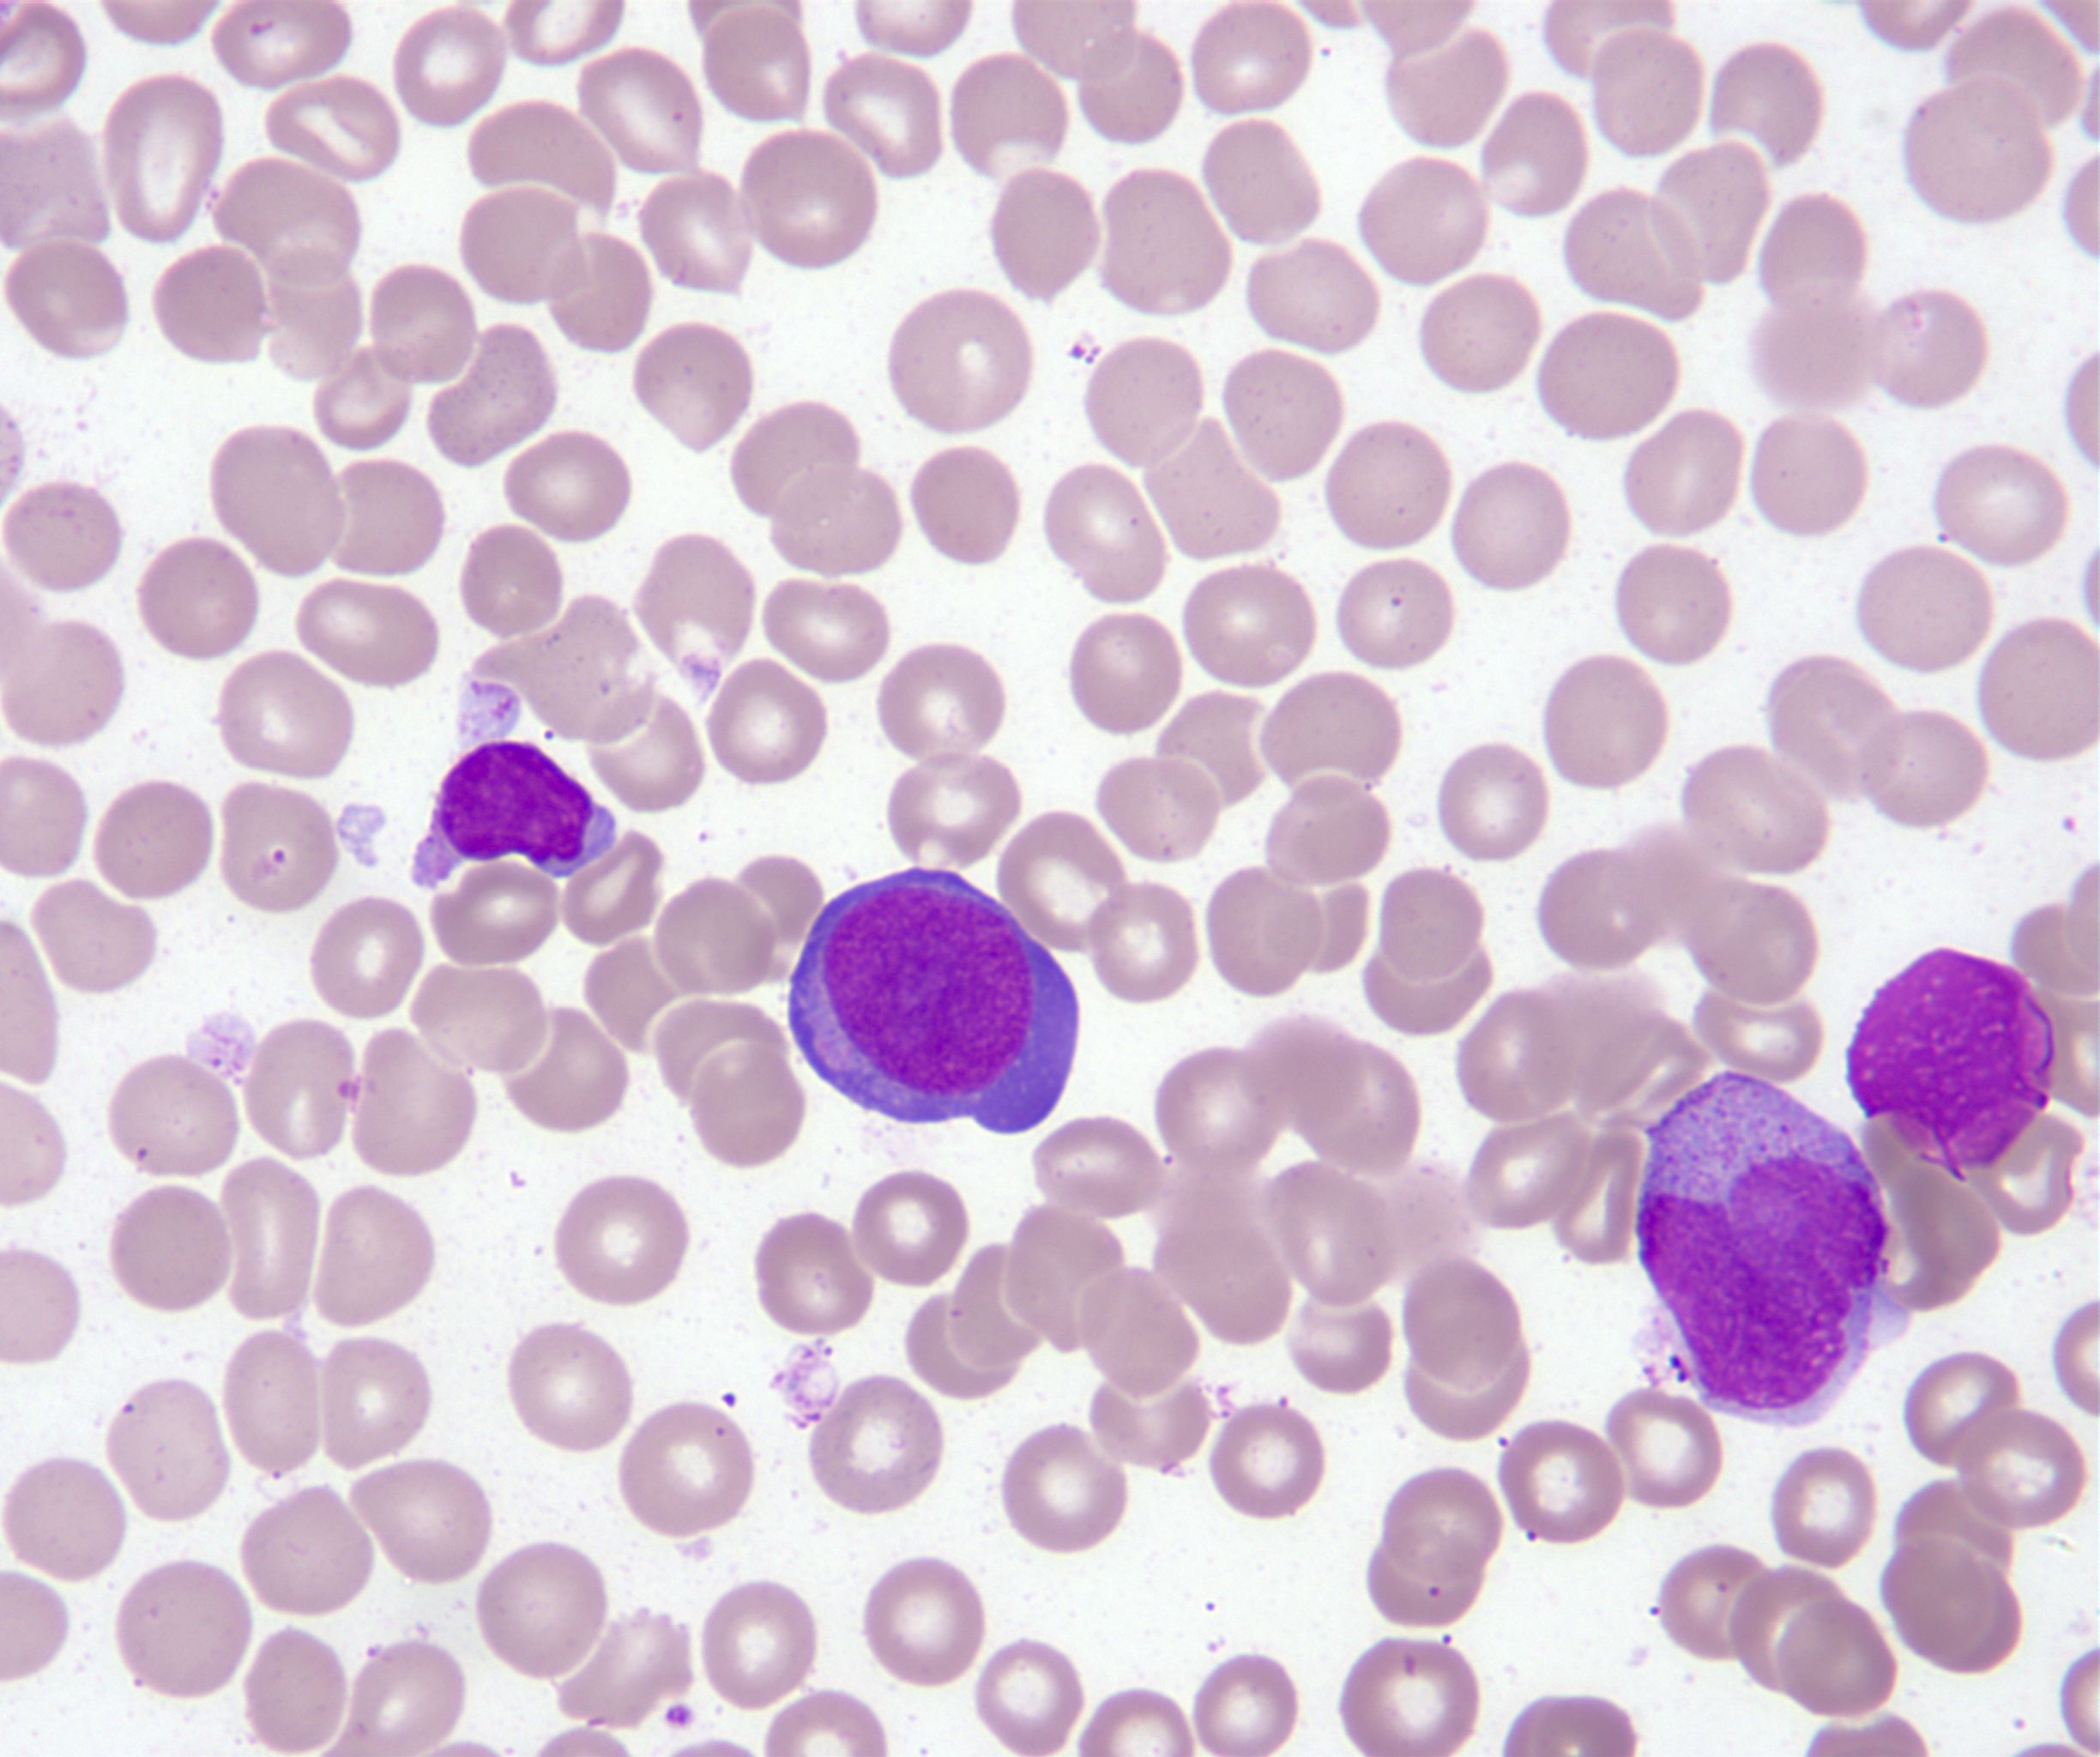21: (788, 867, 1080, 1136)
3: (1640, 1073, 1891, 1425)
32: (413, 743, 614, 890)
x: (1847, 946, 2053, 1183)
